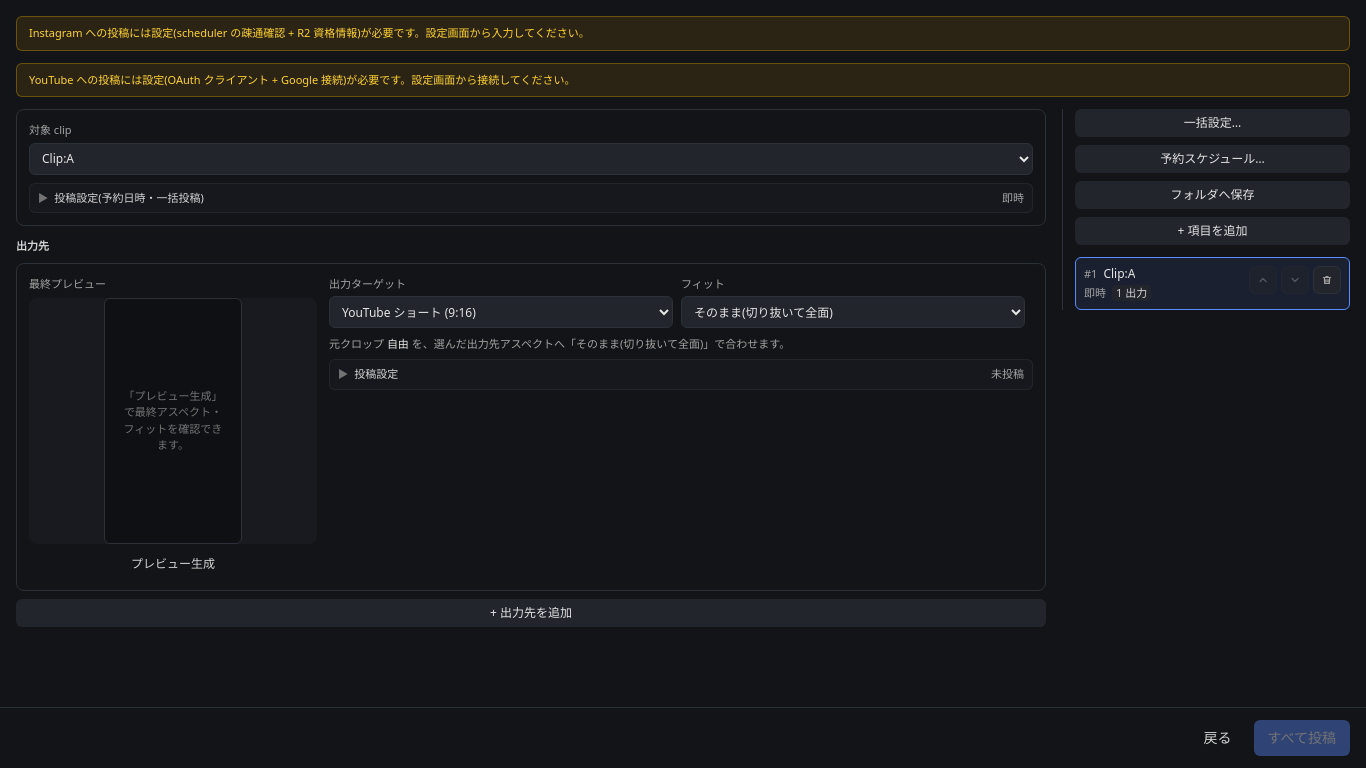
Test: UploadScreen: 一括書き出しのファイル名組み立て › clip 名を sanitize し、`名前_ターゲット_フィット.mp4` の形式で組み立てる。衝突時は -2 を付与する
Click the button "+ 出力先を追加" at {"x": 531, "y": 613}, box 16,599 -> 1046,627
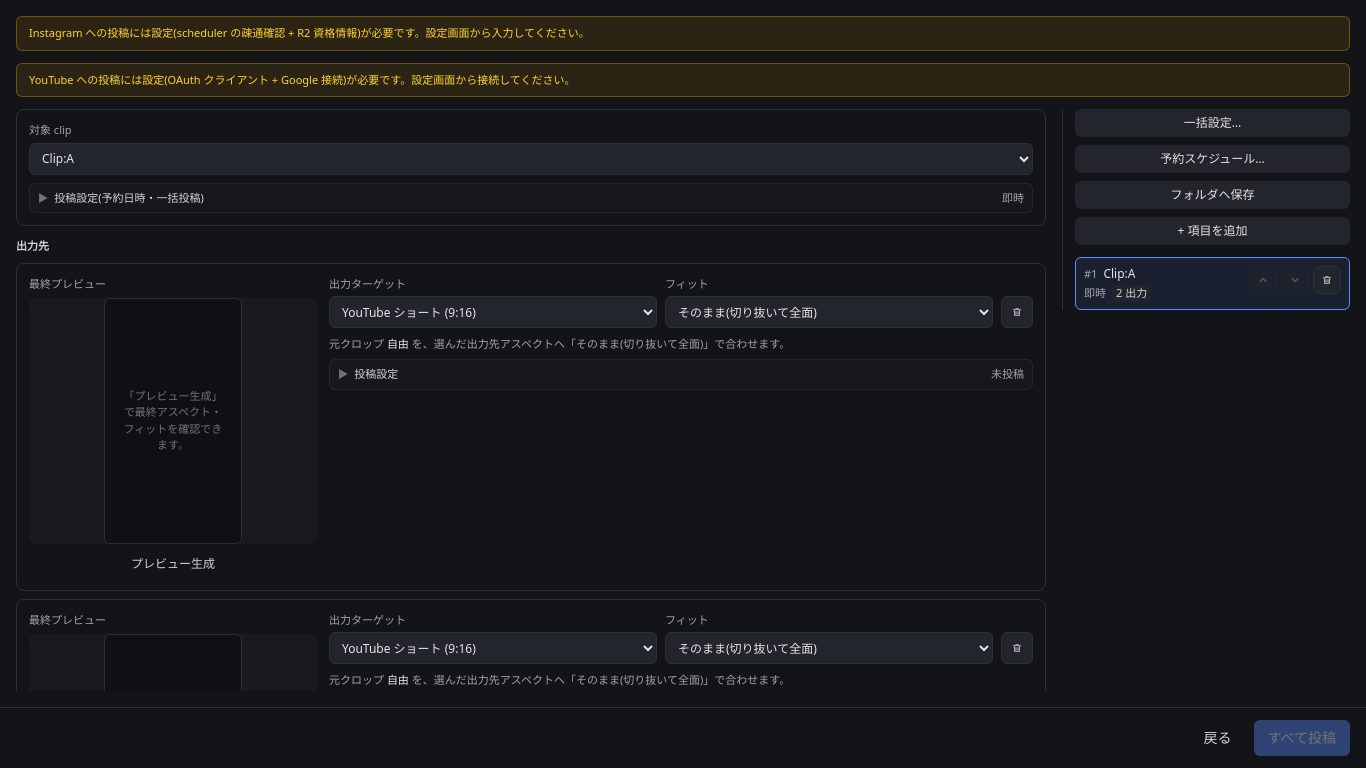
Click the button "フォルダへ保存" at {"x": 1212, "y": 195}, box 1075,181 -> 1350,209
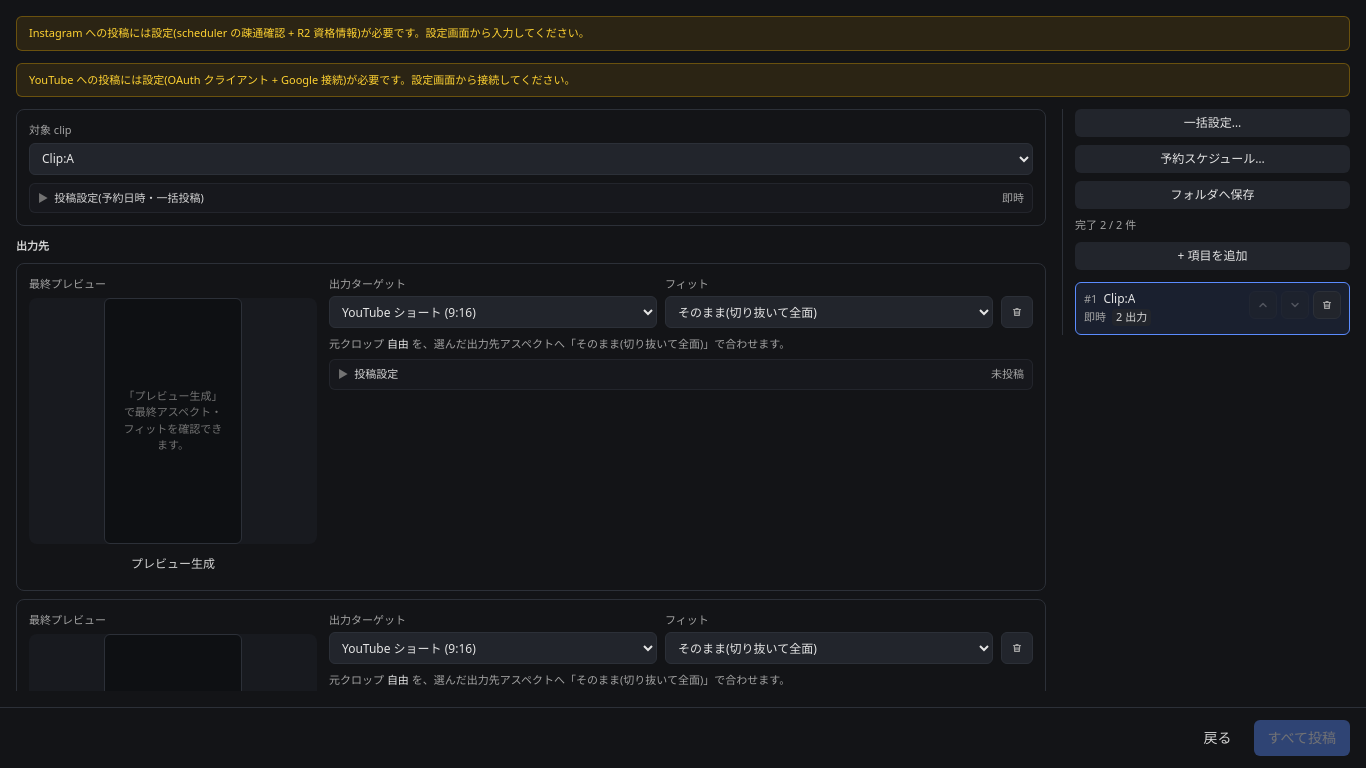
Now the text "完了 2 / 2 件" is shown, box 1075,217 -> 1136,234
